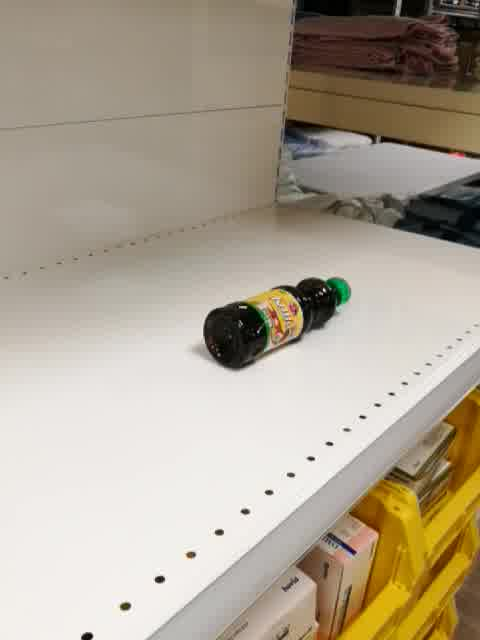cookingoil: (201, 275, 353, 373)
